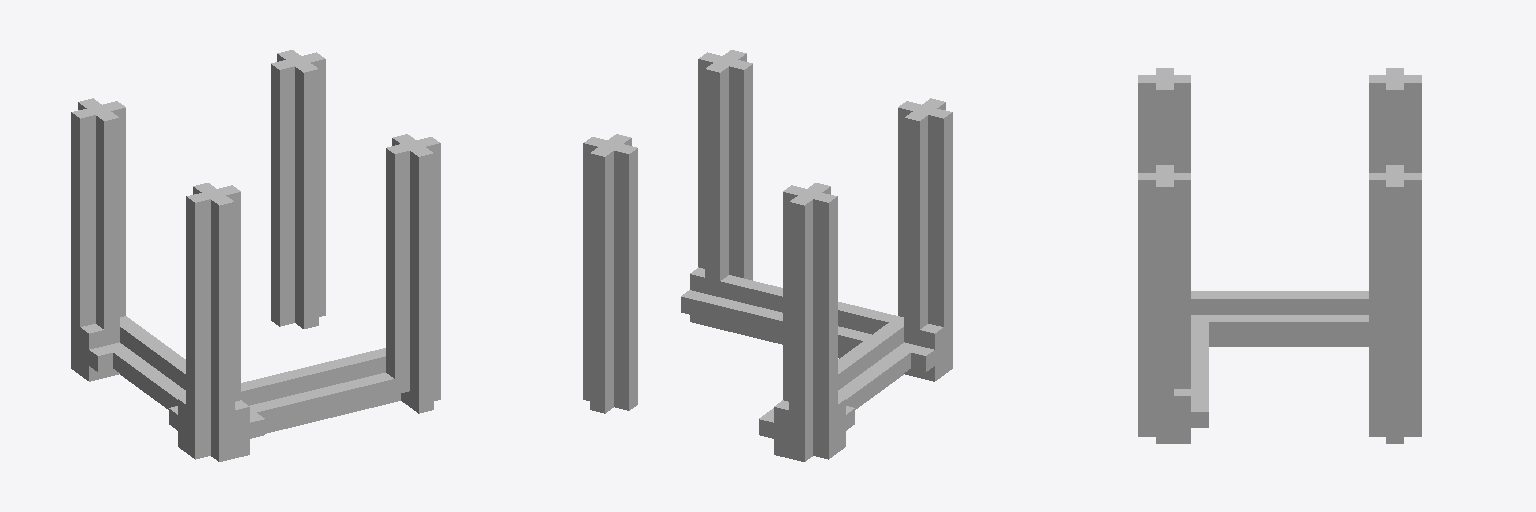
The model's file is pole_scaffolding_curve.obj.
3 views of the same model, side by side, from view 1: azimuth 30°, elevation 25°; view 2: azimuth 150°, elevation 25°; view 3: azimuth 270°, elevation 25° (orthographic).
Parts seen in each view (by area): view 1: node_0_0_0.008; view 2: node_0_0_0.008; view 3: node_0_0_0.008.
Part boxes in pixels (x1,y1,x2,y2): node_0_0_0.008: (71,50,440,461); node_0_0_0.008: (583,50,952,461); node_0_0_0.008: (1138,68,1421,443).
Bounding box in the file's own units: 1 × 1 × 1.